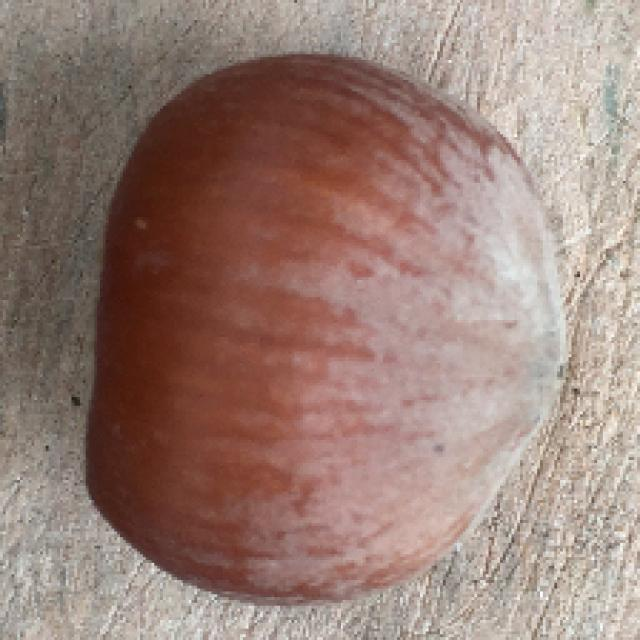qualityHazelnut: (84, 50, 568, 613)
